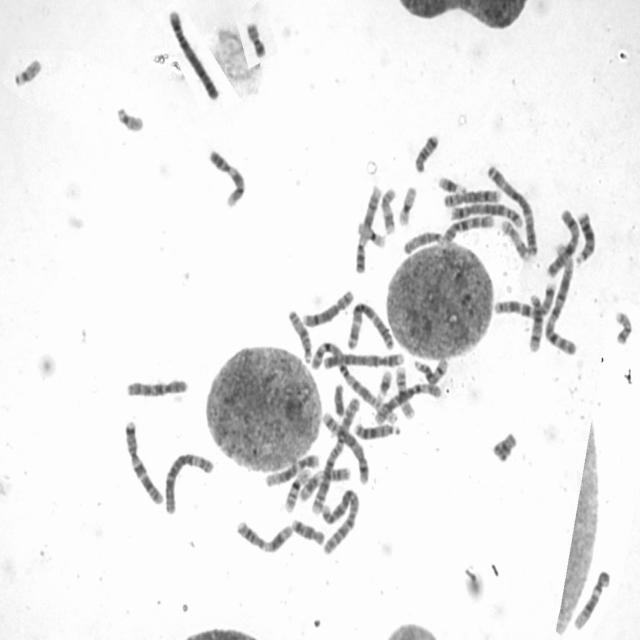A1: (310, 336, 382, 410), (541, 235, 578, 357)
A2: (308, 391, 362, 515), (317, 483, 361, 557)
A3: (485, 159, 540, 259), (343, 296, 395, 352)
B4: (165, 3, 221, 101), (319, 346, 406, 372)
B5: (318, 406, 370, 486), (446, 197, 526, 230)
C10: (438, 210, 496, 246), (122, 373, 190, 399)
C11: (233, 515, 293, 554), (296, 462, 352, 502)
C12: (570, 565, 612, 631), (262, 448, 321, 488)
C6: (160, 447, 215, 516), (370, 378, 442, 425)
C7: (120, 415, 165, 506), (490, 276, 558, 320)
C8: (298, 284, 356, 328), (440, 185, 502, 208)
C9: (351, 180, 383, 274), (204, 143, 246, 209)
D13: (572, 205, 598, 266), (351, 416, 402, 441)
D14: (410, 353, 449, 386), (525, 288, 544, 352)
D15: (285, 304, 313, 364), (400, 226, 445, 256)
E16: (281, 463, 312, 513), (391, 361, 417, 420)
E17: (496, 214, 531, 262), (378, 182, 398, 236)
E18: (410, 128, 440, 174), (288, 514, 326, 546)
F19: (353, 217, 387, 249), (395, 180, 418, 227)
F20: (242, 16, 268, 59), (611, 306, 634, 346)
G21: (372, 365, 394, 405), (434, 170, 466, 194)
G22: (10, 52, 42, 87), (113, 101, 145, 133)
X: (542, 203, 582, 279)
Y: (329, 378, 346, 418)
